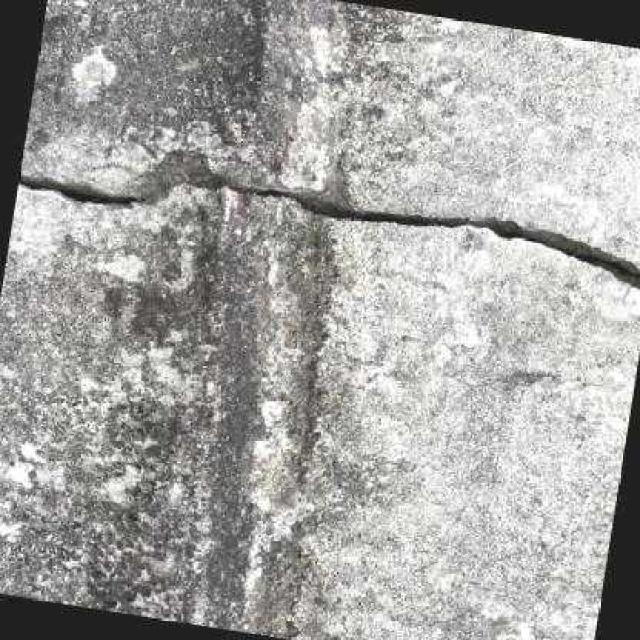D00: (18, 148, 640, 290)
